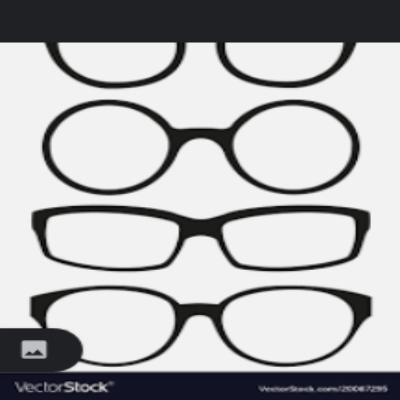glasses: (36, 100, 363, 196), (28, 282, 377, 370), (27, 203, 373, 275), (44, 38, 356, 89)
